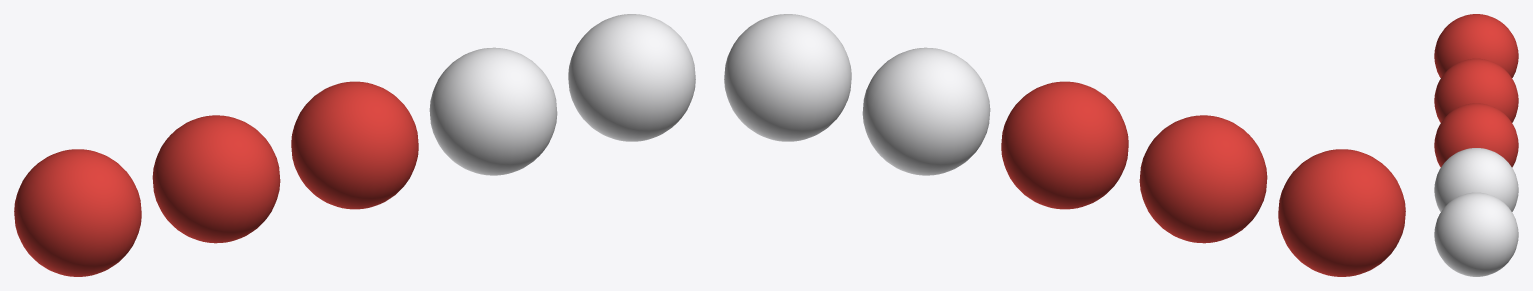
Rendered from orbs.glb.
3 views of the same model, side by side, from view 1: azimuth 30°, elevation 25°; view 2: azimuth 150°, elevation 25°; view 3: azimuth 270°, elevation 25° (orthographic). The views are drawn at different scales.
Visible parts, largest first — view 1: plastic, brushed, chalk, chrome, lacquer; view 2: plastic, brushed, chalk, chrome, lacquer; view 3: chrome, plastic, chalk, brushed, lacquer.
Part boxes in pixels (x1,y1,x2,y2): plastic: (152,115,280,243); brushed: (429,47,557,175); chalk: (14,149,141,276); chrome: (568,14,695,141); lacquer: (291,81,418,209); plastic: (1139,115,1267,243); brushed: (862,47,990,175); chalk: (1278,149,1405,276); chrome: (724,14,851,141); lacquer: (1001,81,1128,209); chrome: (1434,192,1518,276); plastic: (1434,58,1518,122); chalk: (1434,14,1518,77); brushed: (1434,148,1518,211); lacquer: (1434,103,1518,167).
Size of the model in its own units: 6 by 1 by 1.
